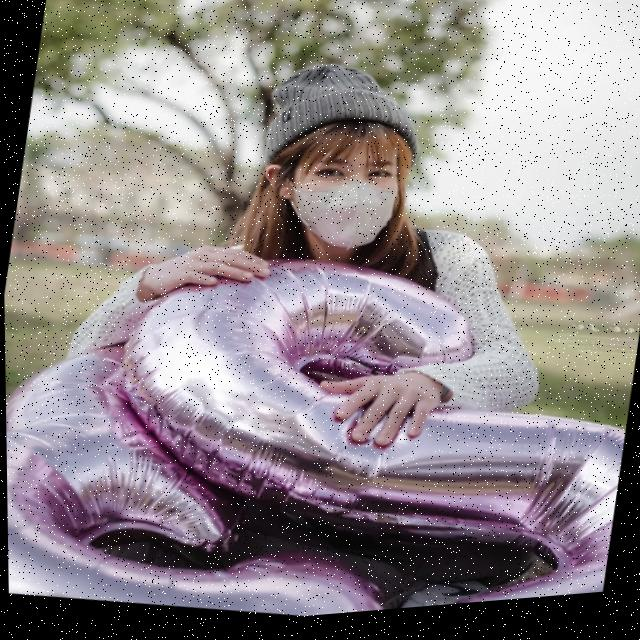illegal_helmet: (240, 47, 437, 276)
